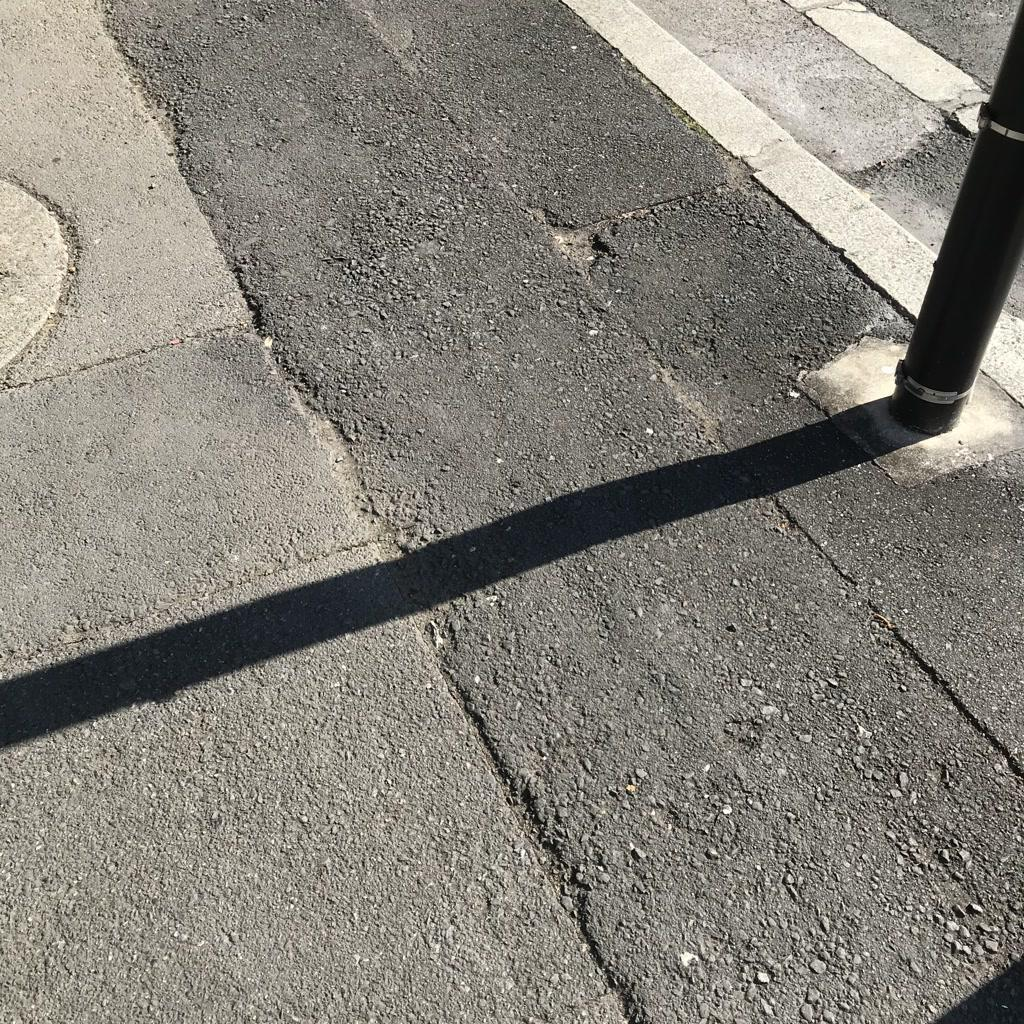pothole: (859, 116, 981, 228)
